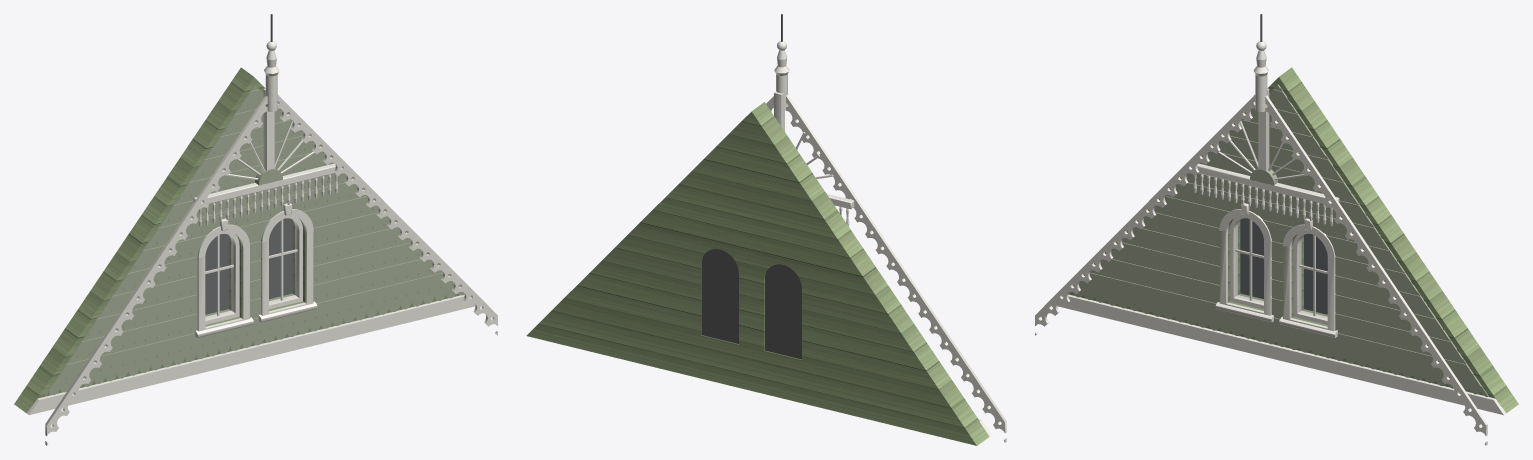
Rendered from gable_front_b.glb.
3 views of the same model, side by side, from view 1: azimuth 30°, elevation 25°; view 2: azimuth 150°, elevation 25°; view 3: azimuth 330°, elevation 25° (orthographic).
Visible parts, largest first — view 1: gable_front_b_acc_b, gable_front_b_trim, gable_front_b_siding_b, gable_front_b_glass, gable_front_b_dark, gable_front_b_frame; view 2: gable_front_b_siding_b, gable_front_b_dark, gable_front_b_trim; view 3: gable_front_b_acc_b, gable_front_b_trim, gable_front_b_siding_b, gable_front_b_glass, gable_front_b_dark, gable_front_b_frame.
Part boxes in pixels (box(x1,y1,x2,y2)): gable_front_b_acc_b: box(44, 84, 464, 396); gable_front_b_trim: box(27, 41, 497, 445); gable_front_b_siding_b: box(14, 67, 463, 413); gable_front_b_glass: box(206, 219, 296, 317); gable_front_b_dark: box(205, 218, 292, 314); gable_front_b_frame: box(205, 217, 302, 324); gable_front_b_siding_b: box(526, 102, 989, 445); gable_front_b_dark: box(701, 249, 801, 359); gable_front_b_trim: box(766, 41, 1006, 442); gable_front_b_acc_b: box(1068, 84, 1488, 396); gable_front_b_trim: box(1035, 41, 1505, 445); gable_front_b_siding_b: box(1069, 67, 1518, 413); gable_front_b_glass: box(1236, 219, 1326, 317); gable_front_b_dark: box(1240, 218, 1327, 314); gable_front_b_frame: box(1230, 217, 1327, 324).
Bounding box in the file's own units: 6 × 4.75 × 0.7856.
Materials: 7 (1 with a texture image).
